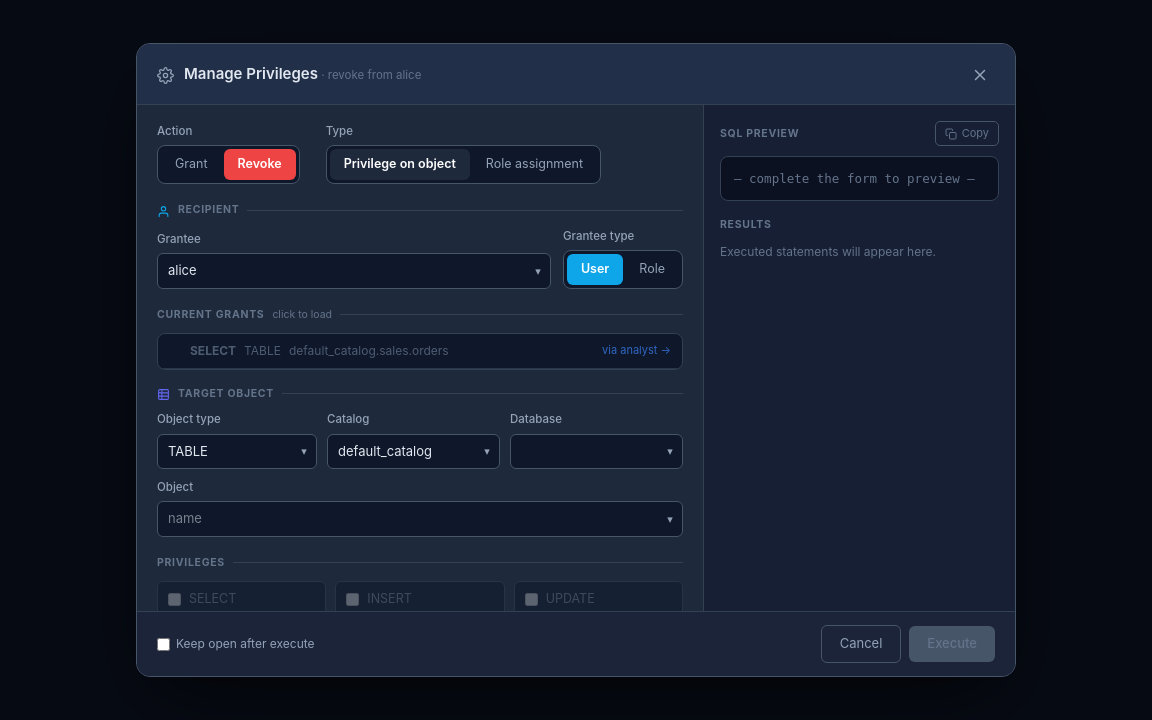
ManagePrivilegesModal › inherited grants offer a jump to the source role
Expected: the element with test id "mp-inherited-grant" is shown, [158,334,682,369]
Click the button "via analyst →" at (637, 351), box [602,342,671,359]
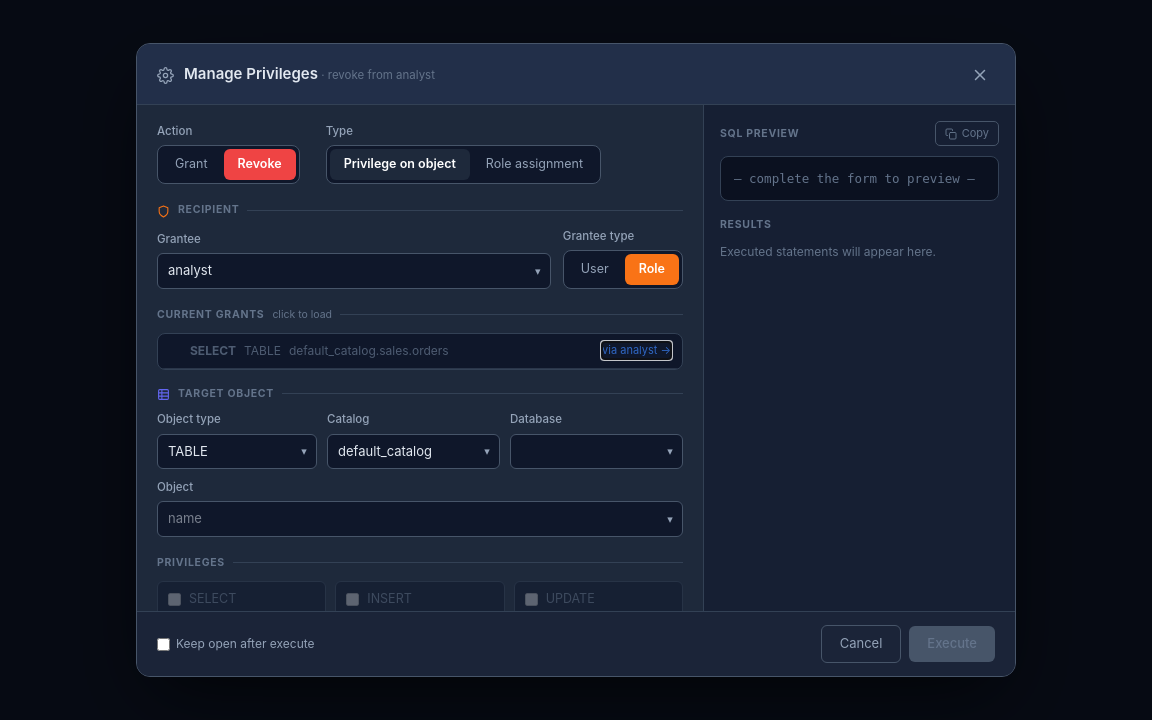
Now the field with test id "mp-grantee-name" holds "analyst", box [157,254,551,289]
Now the radio button with test id "mp-grantee-type-role" is checked, box [625,254,679,285]
